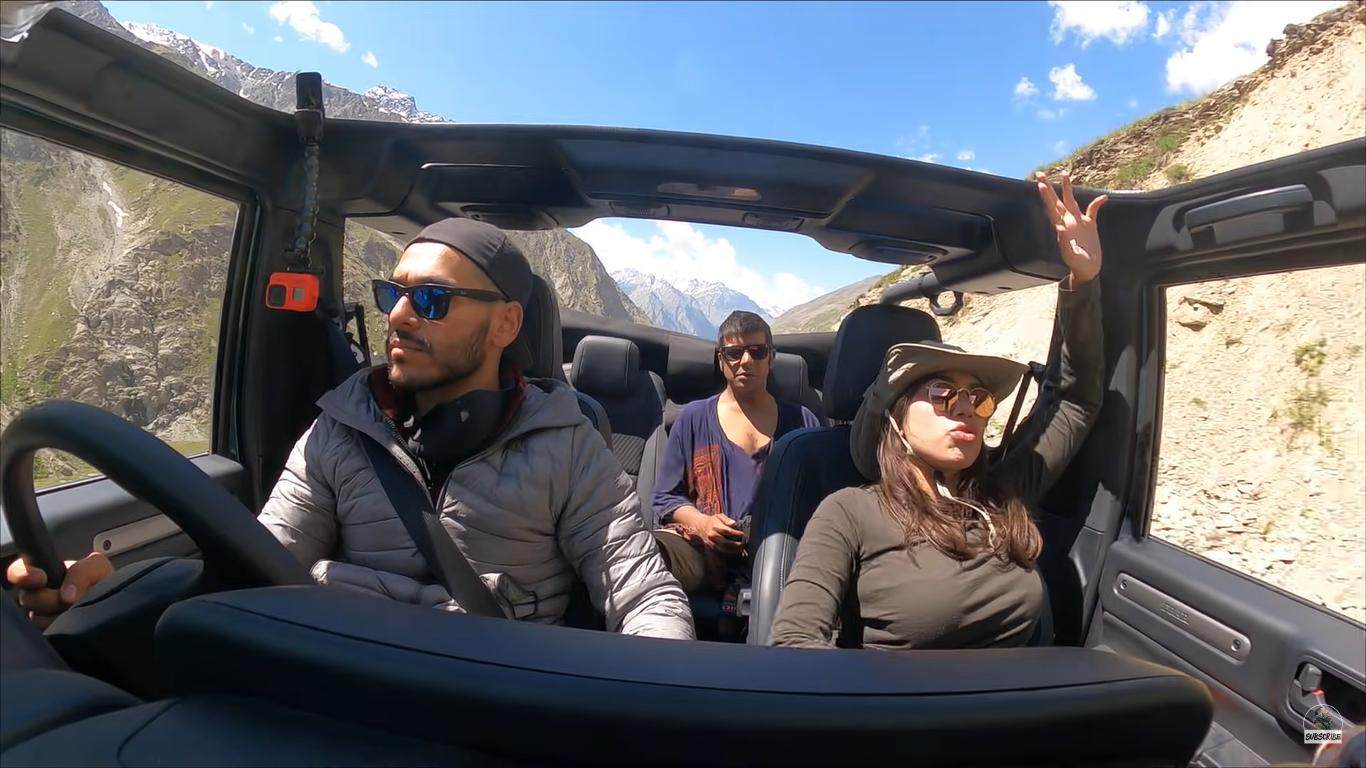no-seatbelt: (854, 494, 1091, 657), (677, 385, 800, 536)
seatbelt: (324, 405, 574, 606)
